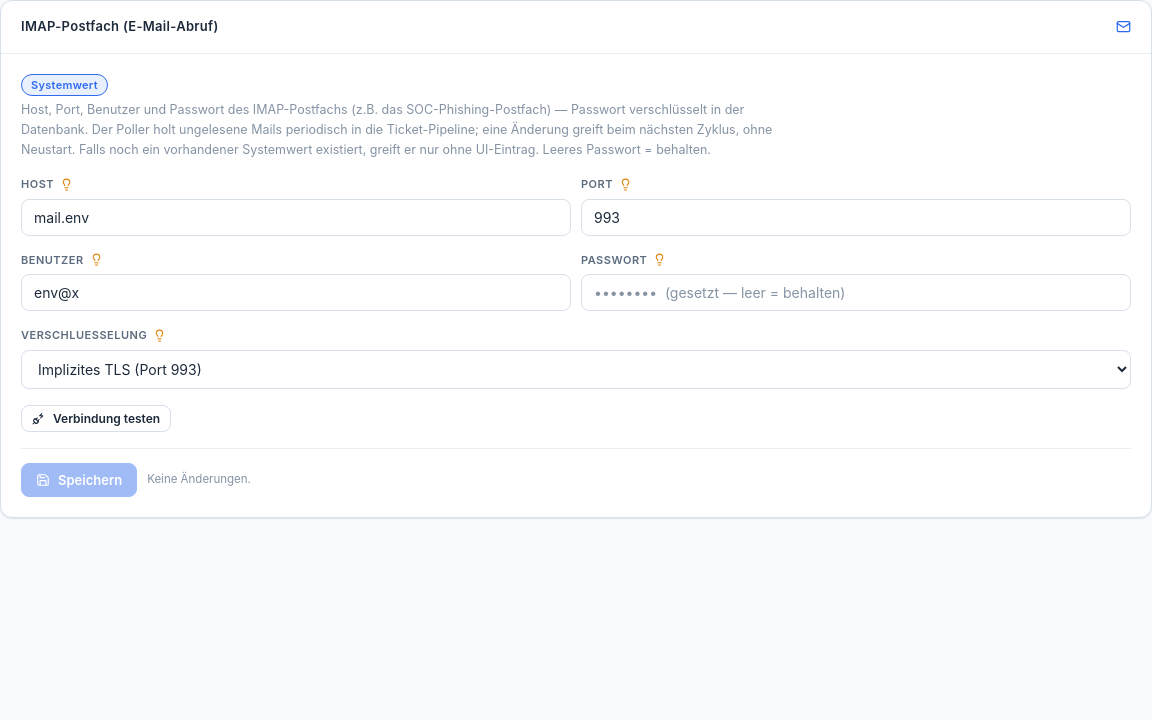
ImapConnectionCard (via connectionCardKit) › Verbindungstest ruft die API und zeigt das Ergebnis
Expected: the text "Systemwert" is shown, top-left (21, 74), bottom-right (108, 96)
Step 1. Click the button "Verbindung testen" → coordinates (96, 418), box top-left (21, 404), bottom-right (171, 432)
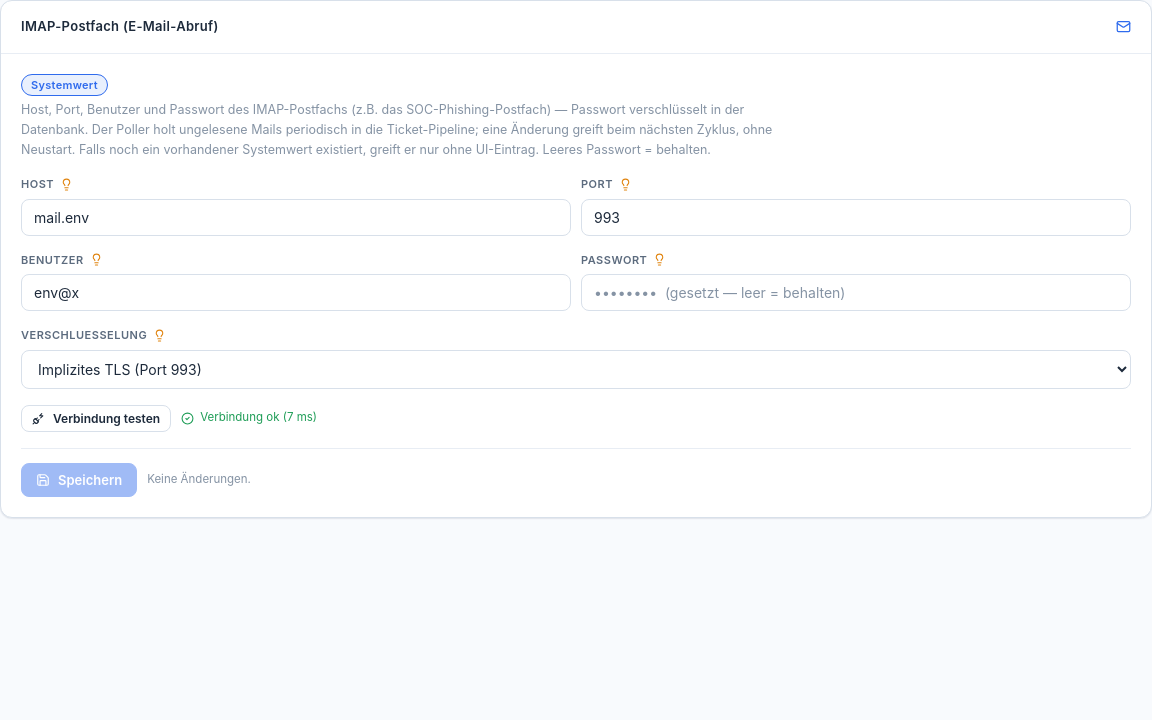
Expected: the text "Verbindung ok (7 ms)" is shown, top-left (181, 409), bottom-right (317, 427)
